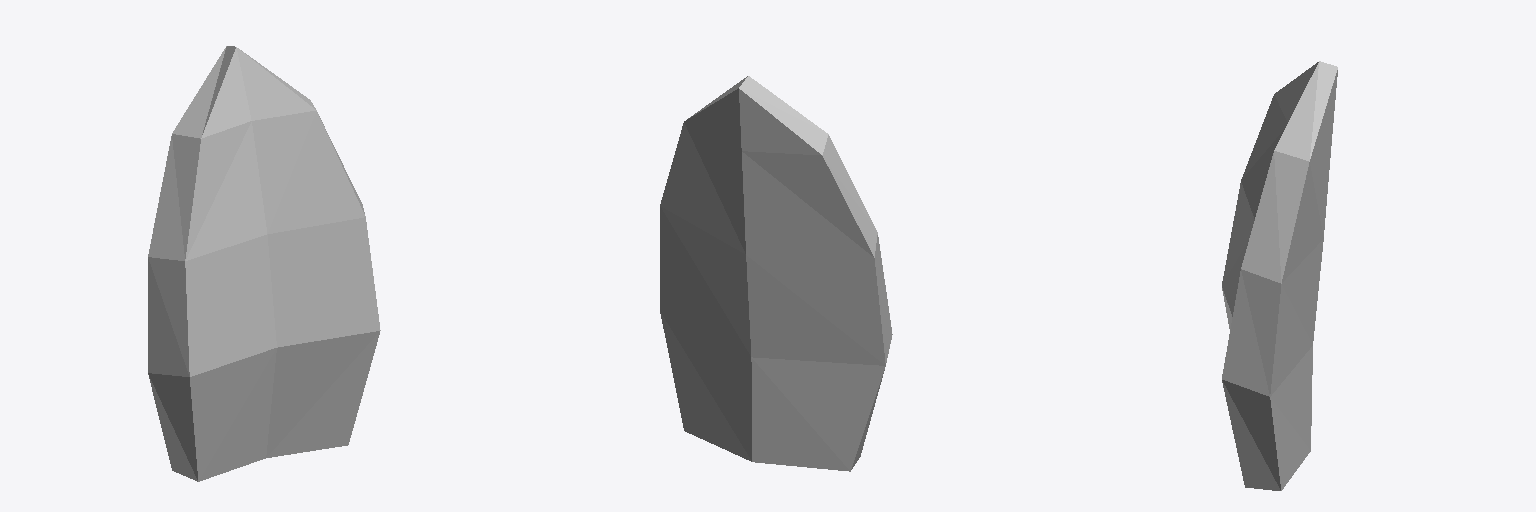
The model's file is Grass_1_A_Color1.obj.
The picture shows the model from 3 angles: view 1: azimuth 30°, elevation 25°; view 2: azimuth 150°, elevation 25°; view 3: azimuth 270°, elevation 25°; orthographic projection.
Visible parts, largest first — view 1: Grass_1_A_Color1; view 2: Grass_1_A_Color1; view 3: Grass_1_A_Color1.
Boxes of the visible parts, <box> form: Grass_1_A_Color1: <box>148,46,380,481</box>; Grass_1_A_Color1: <box>660,76,892,471</box>; Grass_1_A_Color1: <box>1222,61,1337,490</box>.
Bounding box in the file's own units: 0.3393 × 0.5593 × 0.1518.